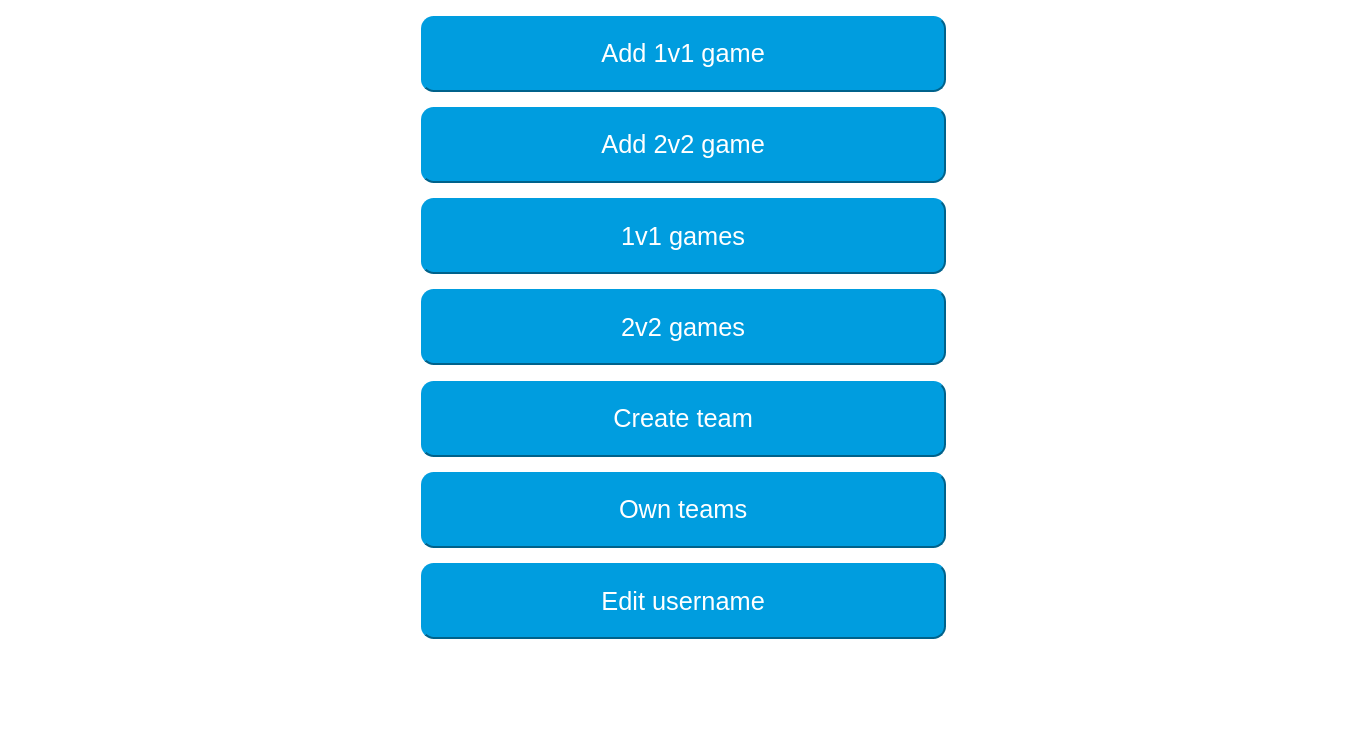
Scenario: renders own teams page
(page scrolled)
Click the button "Own teams" at (683, 510), box [420, 472, 946, 548]
(page scrolled)
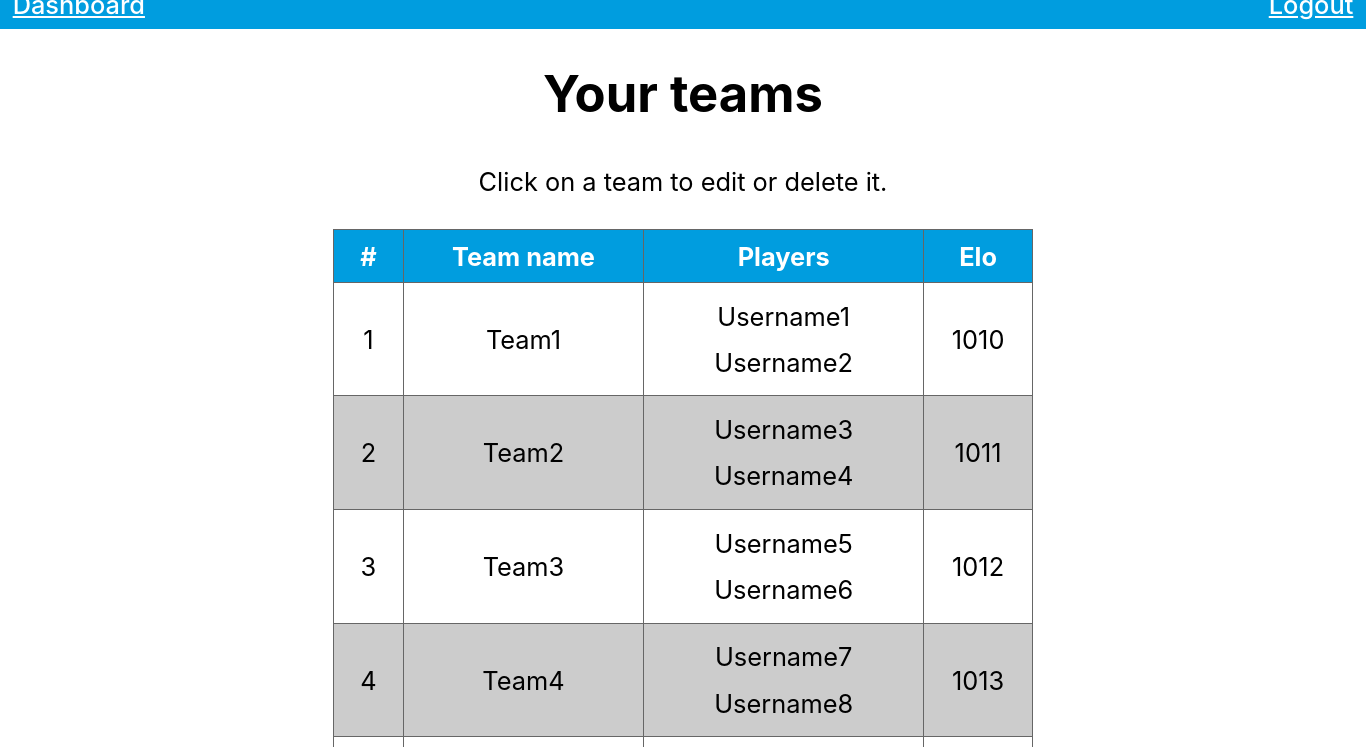
Now the heading "Your teams" is shown, box [333, 63, 1033, 124]
